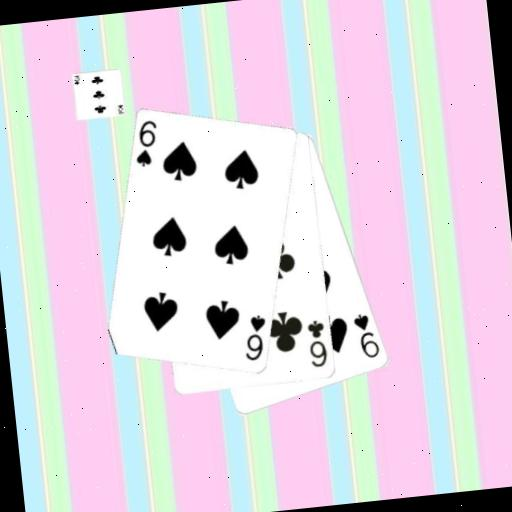6C: (304, 317, 331, 370)
6S: (129, 117, 163, 170), (239, 311, 272, 364)
9S: (350, 309, 383, 362)
